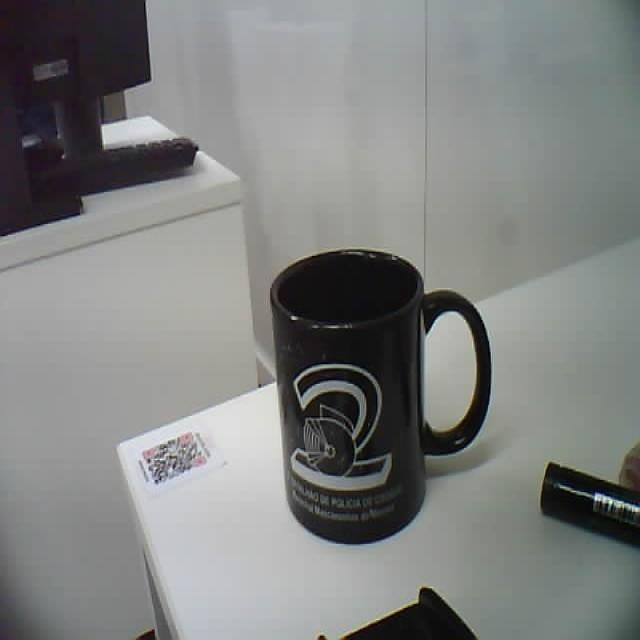caneca: (271, 249, 491, 543)
